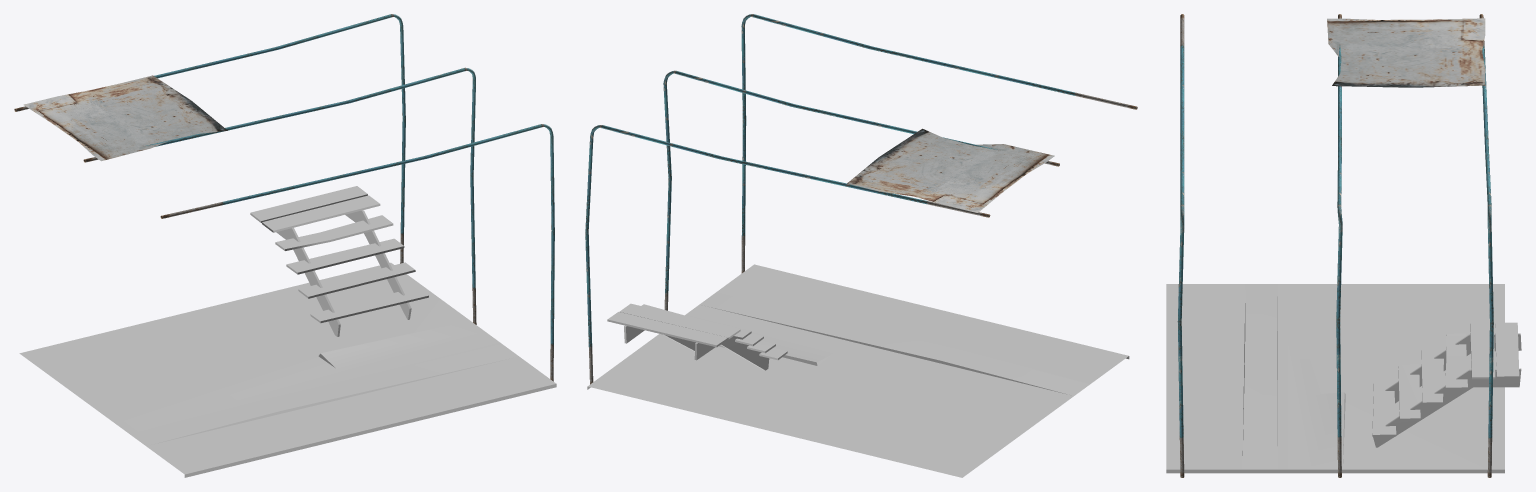
The model's file is Porch_07.fbx.
3 views of the same model, side by side, from view 1: azimuth 30°, elevation 25°; view 2: azimuth 150°, elevation 25°; view 3: azimuth 270°, elevation 25° (orthographic). The views are drawn at different scales.
Visible parts, largest first — view 1: Porch_07; view 2: Porch_07; view 3: Porch_07.
Boxes of the visible parts, x1,y1,x2,y2 form: Porch_07: (14, 14, 556, 477); Porch_07: (585, 14, 1137, 477); Porch_07: (1166, 14, 1521, 477).
Bounding box in the file's own units: 599 × 456 × 381.
